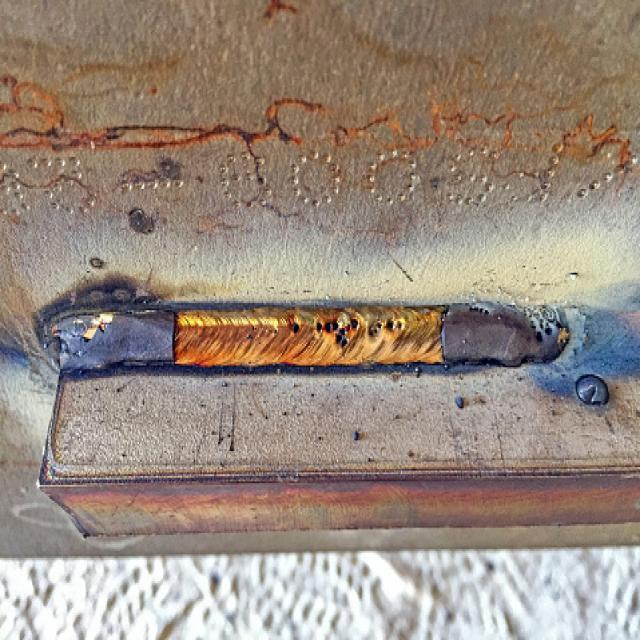Porosity: (308, 316, 361, 356), (525, 309, 554, 345), (366, 315, 405, 338), (466, 300, 498, 320), (288, 319, 306, 337)
